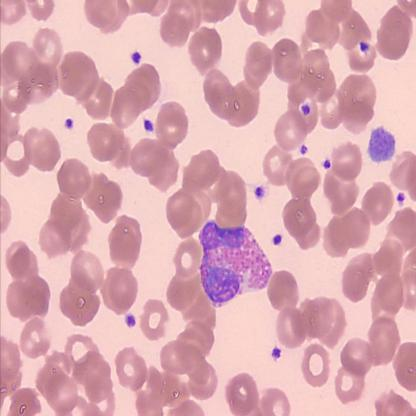Eosinophil: (198, 220, 272, 306)
